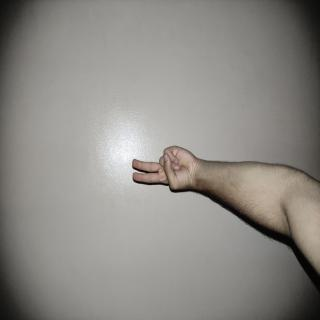TA: (90, 168, 138, 283)
